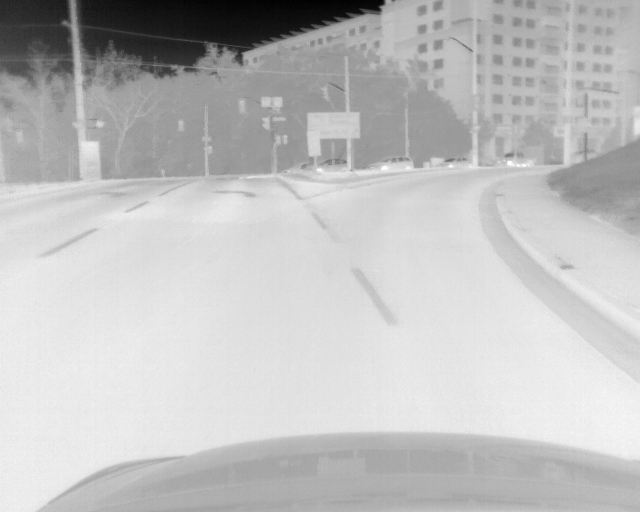car: (365, 156, 412, 173), (492, 151, 531, 168), (313, 157, 348, 175), (435, 156, 467, 170), (283, 162, 306, 174)
